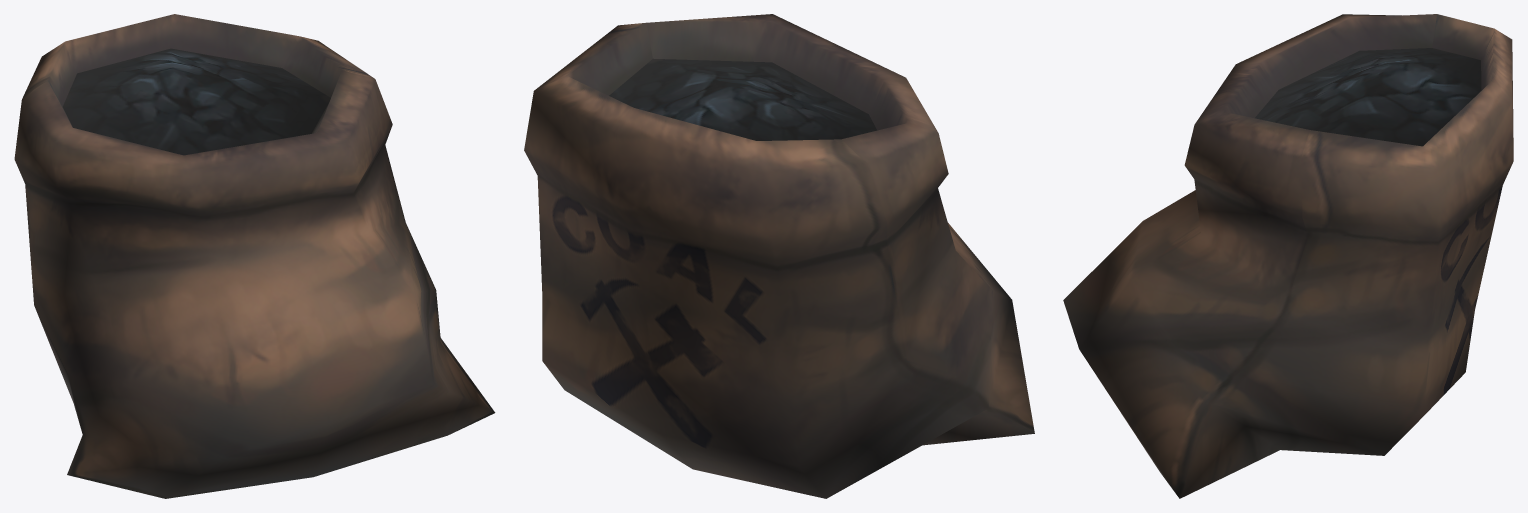
The model's file is sack_of_coal_large2.fbx.
3 renders of one model, left to right at view 1: azimuth 30°, elevation 25°; view 2: azimuth 150°, elevation 25°; view 3: azimuth 270°, elevation 25°, orthographic. The views are drawn at different scales.
Parts seen in each view (by area): view 1: sack_of_coal_large2; view 2: sack_of_coal_large2; view 3: sack_of_coal_large2.
Part boxes in pixels (x1,y1,x2,y2): sack_of_coal_large2: (14,14,495,498); sack_of_coal_large2: (524,14,1034,498); sack_of_coal_large2: (1063,14,1513,498).
Bounding box in the file's own units: 94.01 × 76.78 × 90.64.
